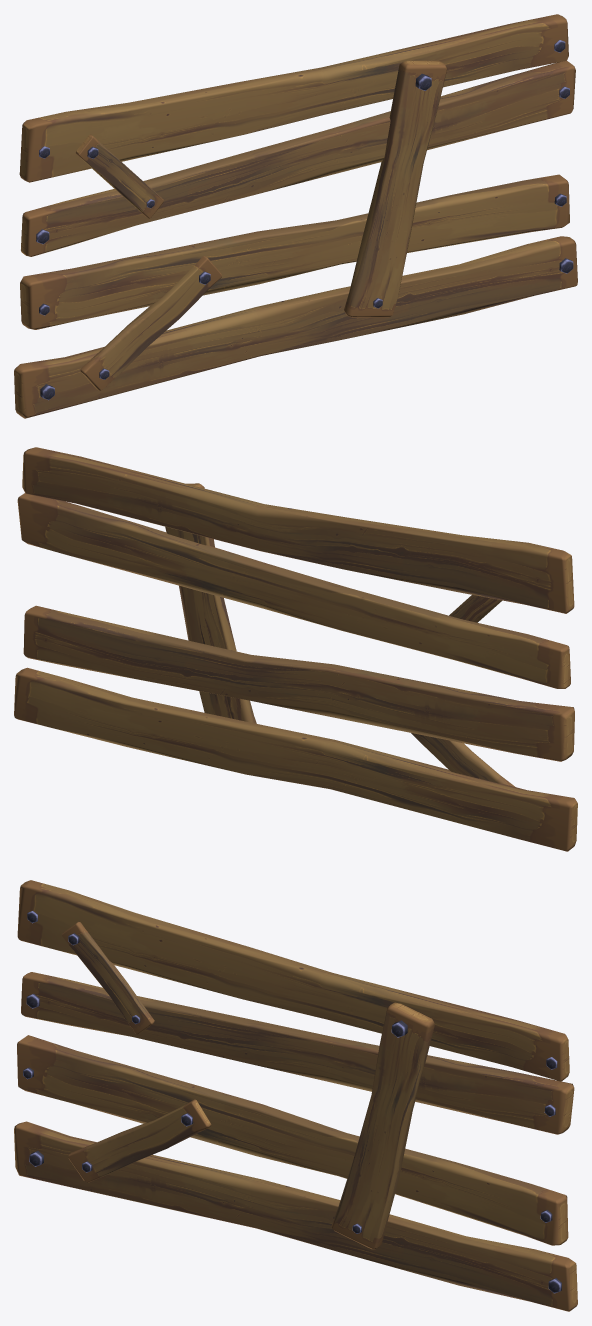
File: SM_MOD_planks_deco_town_01.fbx
3 views of the same model, one above another, from view 1: azimuth 30°, elevation 25°; view 2: azimuth 150°, elevation 25°; view 3: azimuth 330°, elevation 25° (orthographic).
Visible parts, largest first — view 1: SM_MOD_planks_deco_town_01_LOD0; view 2: SM_MOD_planks_deco_town_01_LOD0; view 3: SM_MOD_planks_deco_town_01_LOD0.
Part boxes in pixels (bbox=[...]): SM_MOD_planks_deco_town_01_LOD0: bbox=[14, 14, 577, 418]; SM_MOD_planks_deco_town_01_LOD0: bbox=[14, 447, 577, 851]; SM_MOD_planks_deco_town_01_LOD0: bbox=[14, 880, 577, 1311].
Size of what is drawn, in the model's own units: 417 by 212 by 28.75.
